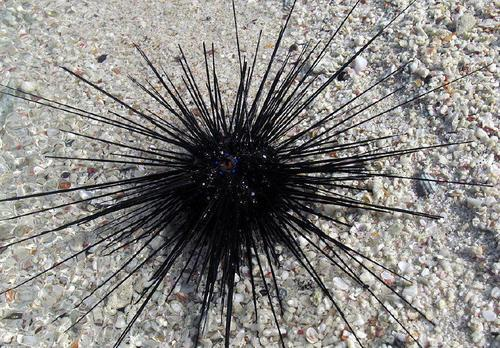urchin: (75, 58, 406, 328)
